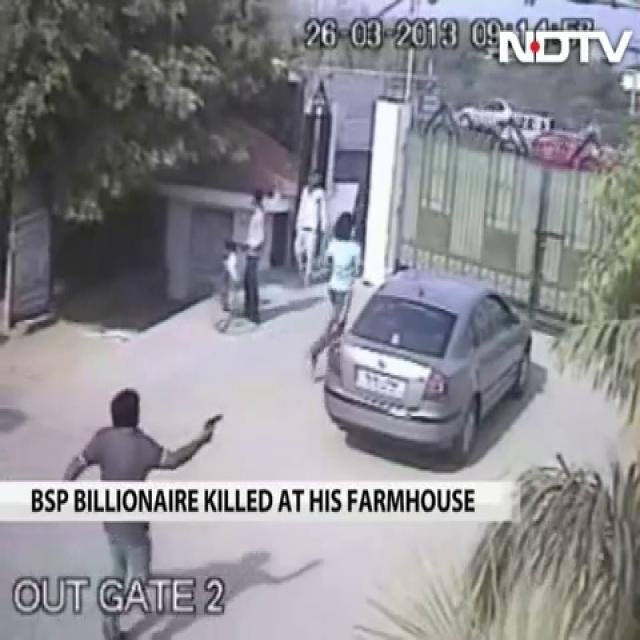weapon: (199, 407, 224, 441)
